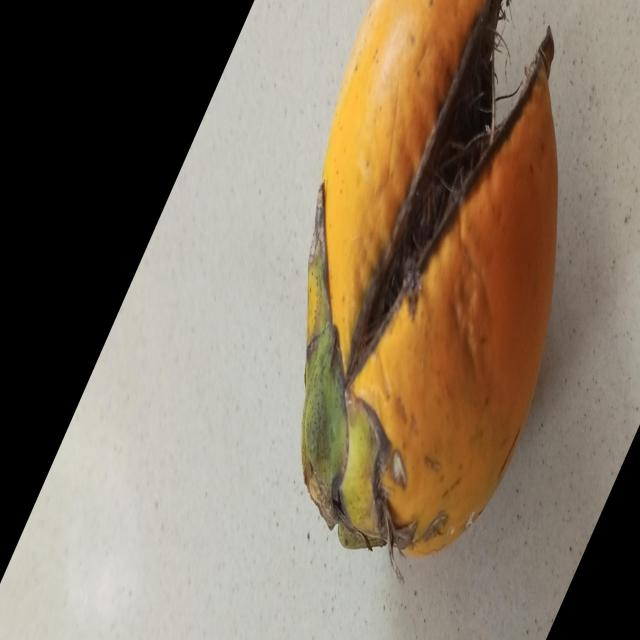damaged: (301, 0, 558, 581)
